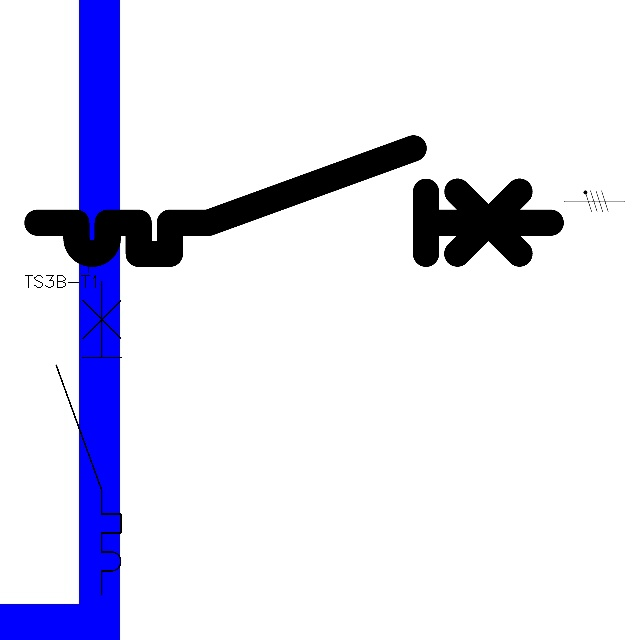interruptor_termomagnetico: (24, 135, 564, 267), (48, 273, 129, 603)
